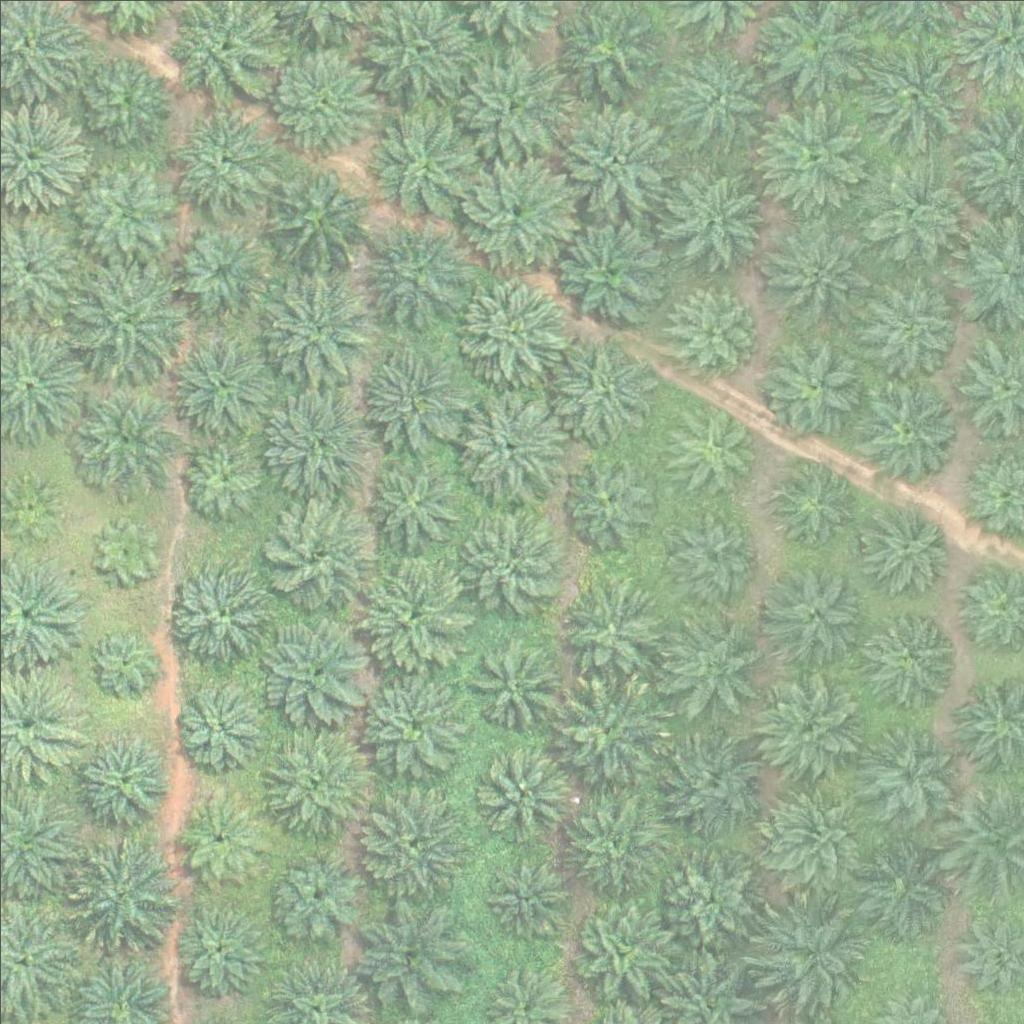Kelapa_Sawit: (844, 826, 957, 940), (848, 718, 961, 832), (68, 833, 181, 947), (255, 159, 368, 273), (547, 334, 660, 448), (752, 667, 865, 781), (370, 107, 483, 221), (263, 41, 376, 155), (351, 782, 464, 895), (356, 663, 469, 776), (62, 725, 175, 838), (263, 497, 376, 610), (259, 384, 372, 497), (258, 269, 371, 382), (358, 559, 471, 672), (356, 439, 469, 552), (555, 214, 668, 327), (757, 328, 870, 441), (556, 99, 669, 212), (361, 219, 473, 333), (451, 388, 563, 502), (455, 267, 567, 381), (655, 603, 767, 717), (757, 892, 869, 1005), (655, 727, 767, 840), (551, 775, 663, 888), (352, 903, 464, 1016), (262, 725, 374, 838), (68, 380, 180, 493), (69, 258, 181, 371), (160, 553, 272, 666), (166, 322, 278, 435), (260, 612, 372, 725), (356, 337, 468, 450), (450, 505, 562, 618), (554, 671, 666, 784), (755, 215, 867, 328), (851, 371, 963, 484), (857, 39, 969, 152), (757, 100, 869, 213), (460, 153, 572, 266), (455, 49, 567, 162), (657, 844, 757, 945), (570, 902, 670, 1003), (471, 742, 571, 843), (265, 848, 365, 949), (170, 217, 270, 318), (465, 633, 565, 734), (861, 275, 961, 376), (860, 164, 960, 265), (661, 170, 761, 271), (672, 45, 772, 146), (70, 162, 170, 263), (69, 52, 169, 153), (761, 784, 861, 884), (168, 897, 268, 997), (562, 575, 662, 675), (561, 445, 661, 545), (662, 402, 762, 502), (765, 560, 865, 660), (858, 607, 958, 707), (167, 113, 267, 213), (175, 677, 263, 765), (178, 437, 266, 525), (862, 499, 950, 587), (481, 851, 568, 940), (176, 793, 263, 881), (673, 506, 760, 594), (666, 287, 753, 375), (775, 459, 862, 547), (89, 629, 152, 692), (94, 518, 157, 581)
